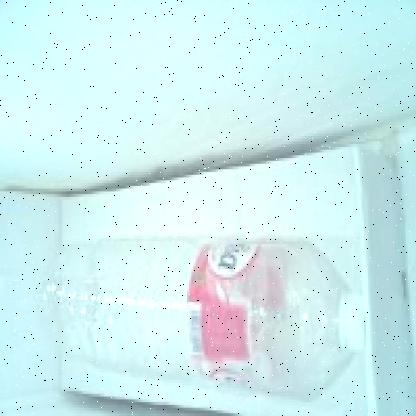Plastic Bottle: (34, 240, 363, 399)
